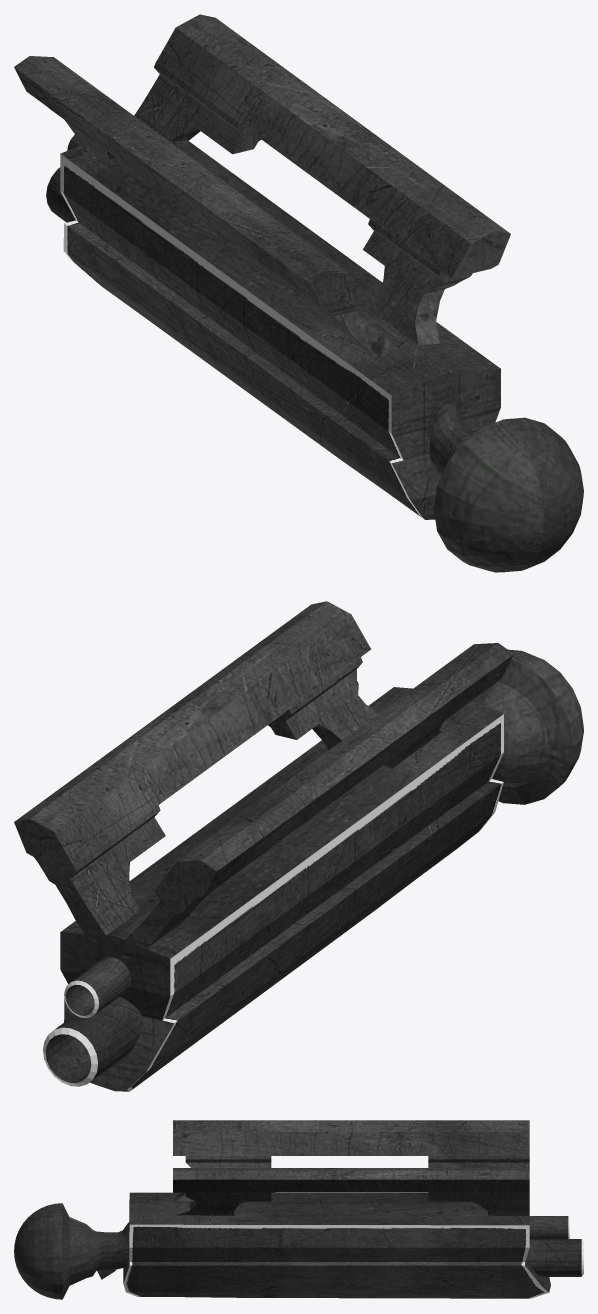
Rendered from rifle.fbx.
3 views of the same model, one above another, from view 1: azimuth 30°, elevation 25°; view 2: azimuth 150°, elevation 25°; view 3: azimuth 270°, elevation 25° (orthographic). The views are drawn at different scales.
Parts seen in each view (by area): view 1: Mesh; view 2: Mesh; view 3: Mesh.
Boxes of the visible parts, left/top/right/bottom form: Mesh: left=14, top=14, right=583, bottom=572; Mesh: left=14, top=601, right=583, bottom=1091; Mesh: left=14, top=1120, right=583, bottom=1299.
Bounding box in the file's own units: 0.1787 × 0.2113 × 0.7249.
